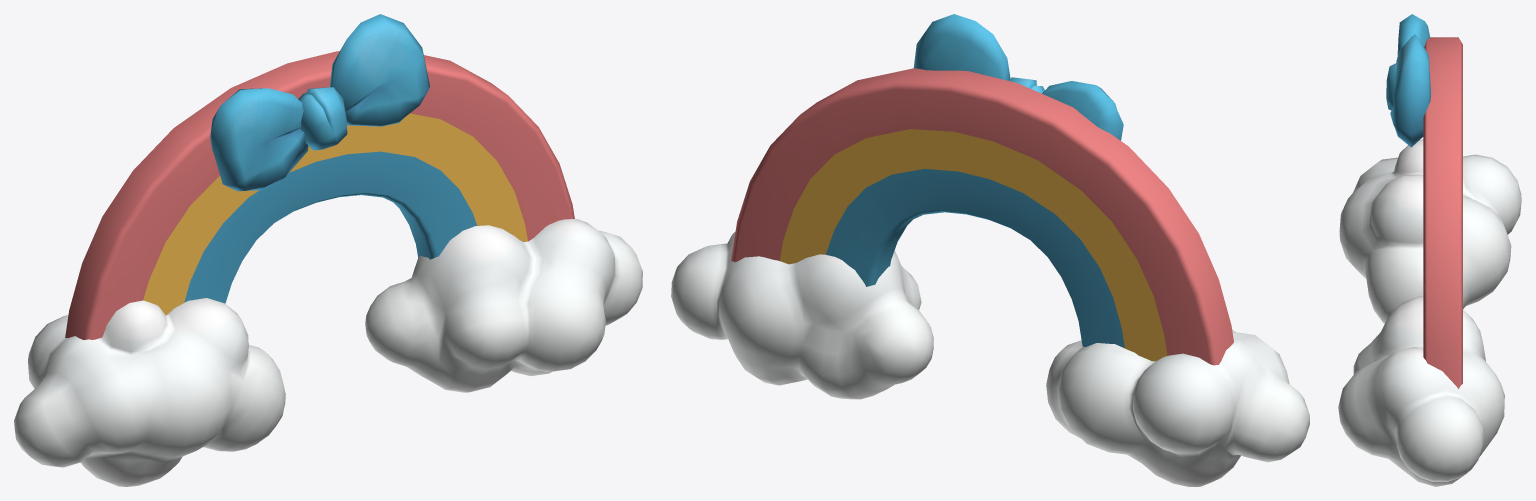
File: CharSkyKid_Prop_IvorySwing.glb
The picture shows the model from 3 angles, left to right: view 1: azimuth 30°, elevation 25°; view 2: azimuth 150°, elevation 25°; view 3: azimuth 270°, elevation 25°; orthographic projection. The views are drawn at different scales.
Parts seen in each view (by area): view 1: CharSkyKid_Prop_IvorySwing; view 2: CharSkyKid_Prop_IvorySwing; view 3: CharSkyKid_Prop_IvorySwing.
Boxes of the visible parts, x1=… form: CharSkyKid_Prop_IvorySwing: x1=14, y1=14, x2=642, y2=486; CharSkyKid_Prop_IvorySwing: x1=671, y1=14, x2=1309, y2=486; CharSkyKid_Prop_IvorySwing: x1=1338, y1=14, x2=1521, y2=486.
Size of the model in its own units: 5.91 by 3.7 by 1.65.
Materials: 1 (1 with a texture image).
